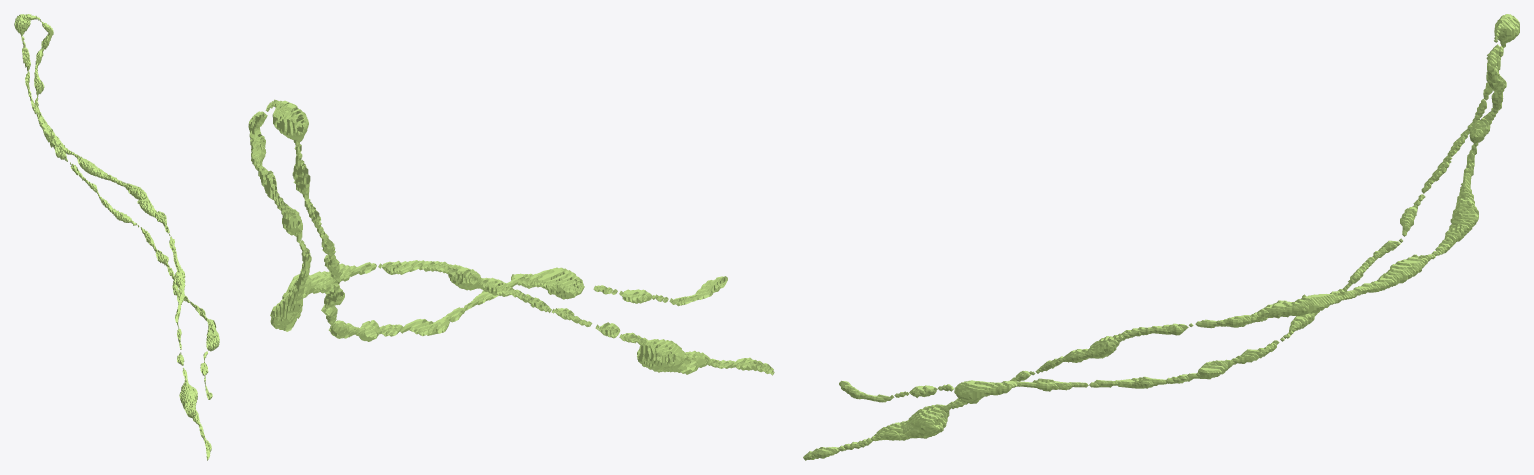
Rendered from SVV_SIAVL.gltf.
3 views of the same model, side by side, from view 1: azimuth 30°, elevation 25°; view 2: azimuth 150°, elevation 25°; view 3: azimuth 270°, elevation 25° (orthographic). The views are drawn at different scales.
Visible parts, largest first — view 1: SIAVL; view 2: SIAVL; view 3: SIAVL.
Boxes of the visible parts, <box> form: SIAVL: <box>14,14,219,460</box>; SIAVL: <box>248,99,774,375</box>; SIAVL: <box>803,14,1519,460</box>.
Size of the model in its own units: 47543 by 143801 by 199838.
